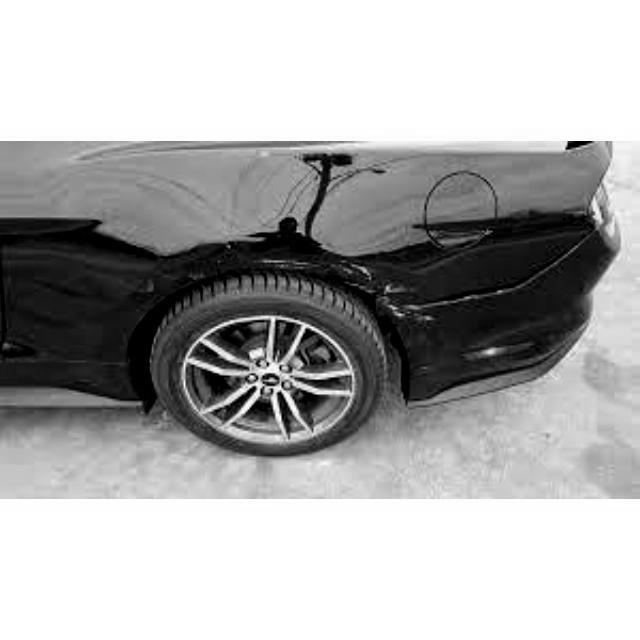quaterpanel-dent: (99, 146, 508, 329)
